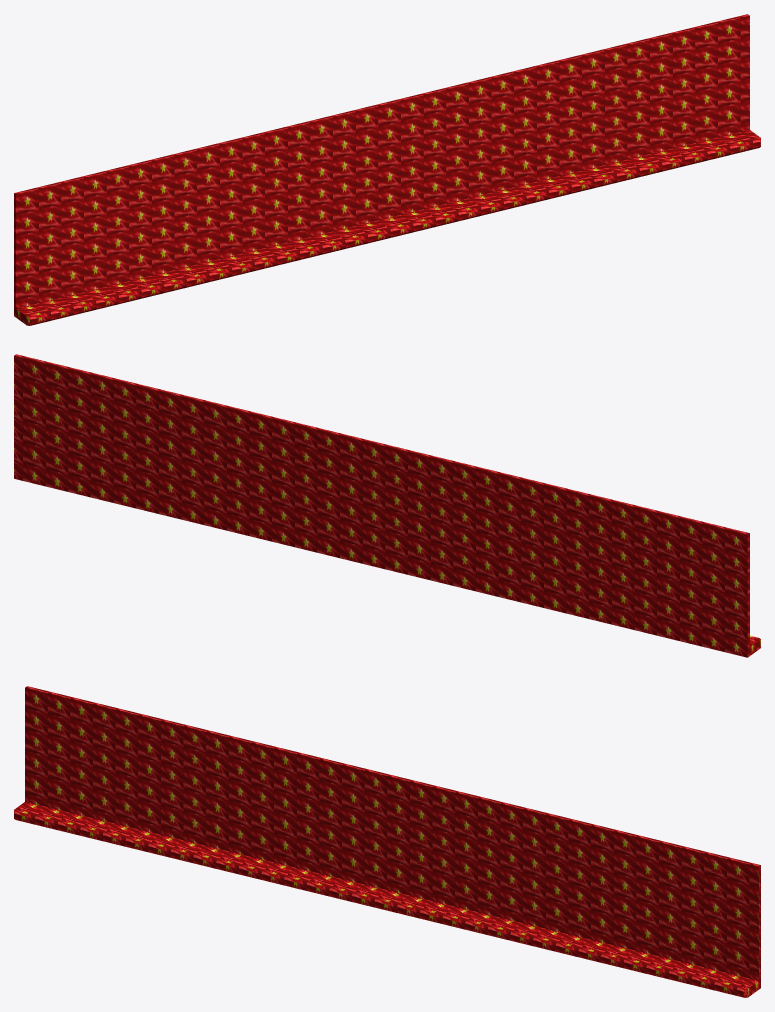
The model's file is shelf.fbx.
3 renders of one model, top to bottom at view 1: azimuth 30°, elevation 25°; view 2: azimuth 150°, elevation 25°; view 3: azimuth 330°, elevation 25°, orthographic.
Visible parts, largest first — view 1: shelf; view 2: shelf; view 3: shelf.
Part boxes in pixels (x1=…): shelf: x1=14, y1=14, x2=760, y2=325; shelf: x1=14, y1=354, x2=760, y2=657; shelf: x1=14, y1=686, x2=760, y2=997.
Bounding box in the file's own units: 1183 × 189 × 41.64.
1 material, 1 textured.
